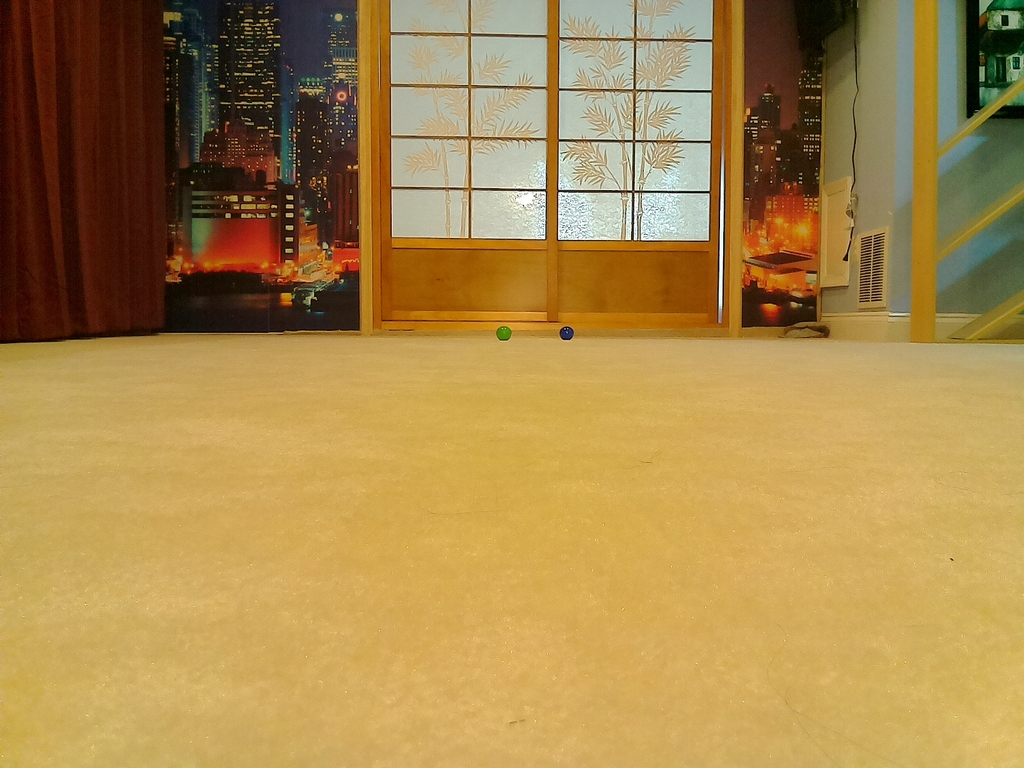ball: (498, 326, 510, 339)
